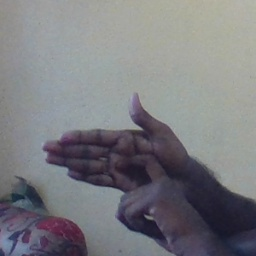R: (41, 90, 185, 229)
